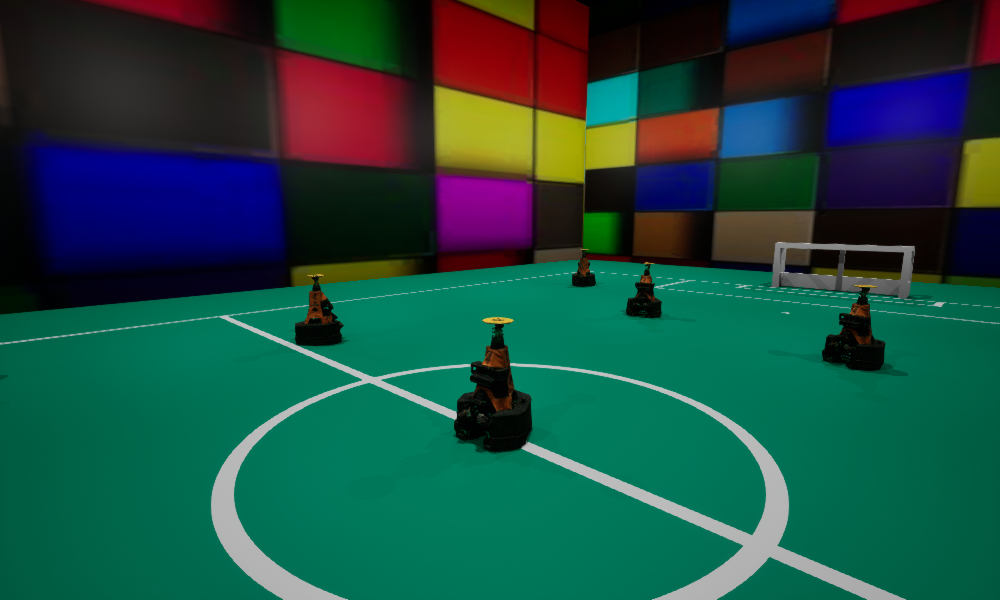o: (454, 317, 531, 450), (822, 285, 885, 370), (295, 274, 343, 345), (626, 262, 661, 317), (572, 249, 595, 286)
